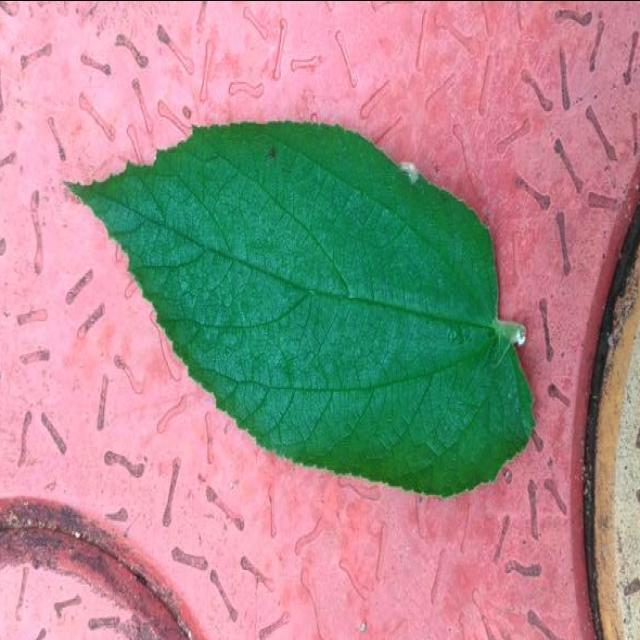leaf: (63, 118, 537, 498)
